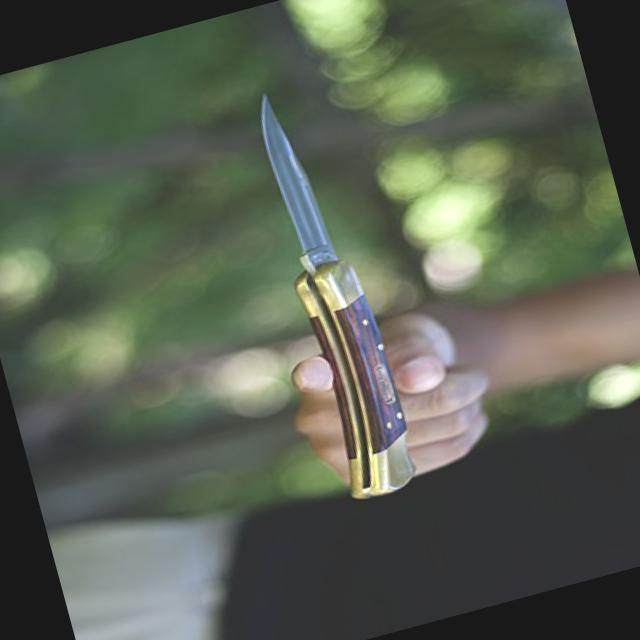knife: (213, 64, 448, 518)
